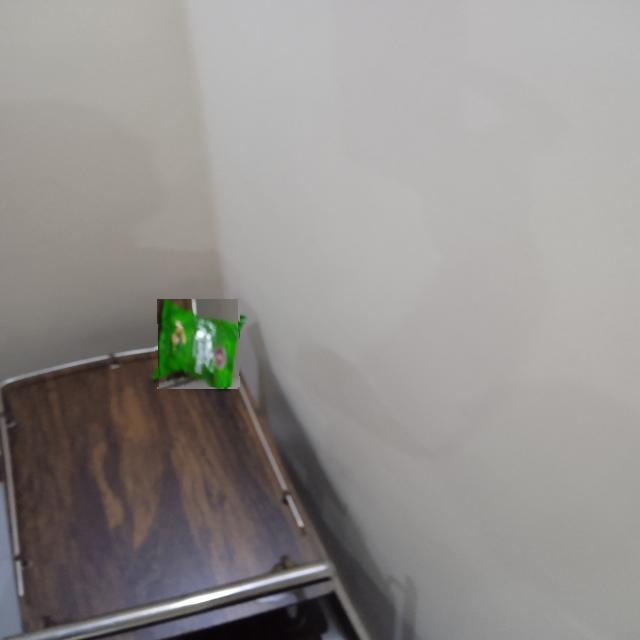Plastic: (154, 302, 240, 388)
